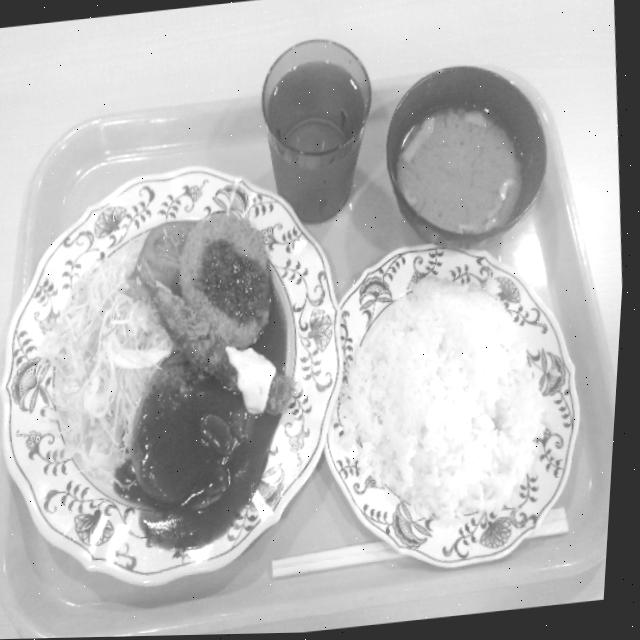汤锅炖物: (360, 50, 564, 267)
炸货点心: (120, 248, 312, 428), (116, 185, 292, 357)
熟制海鲜: (120, 248, 312, 428)
米饭主食: (300, 224, 609, 589)
蔬菜料理: (13, 233, 184, 499)
